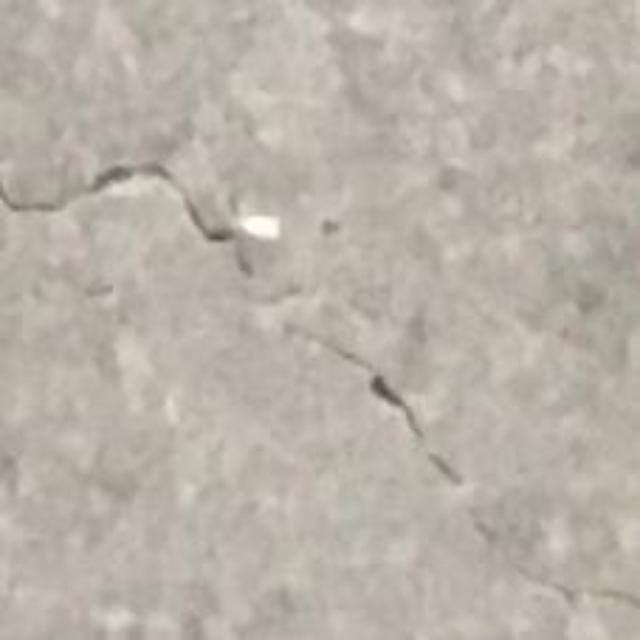crack: (0, 164, 239, 242)
